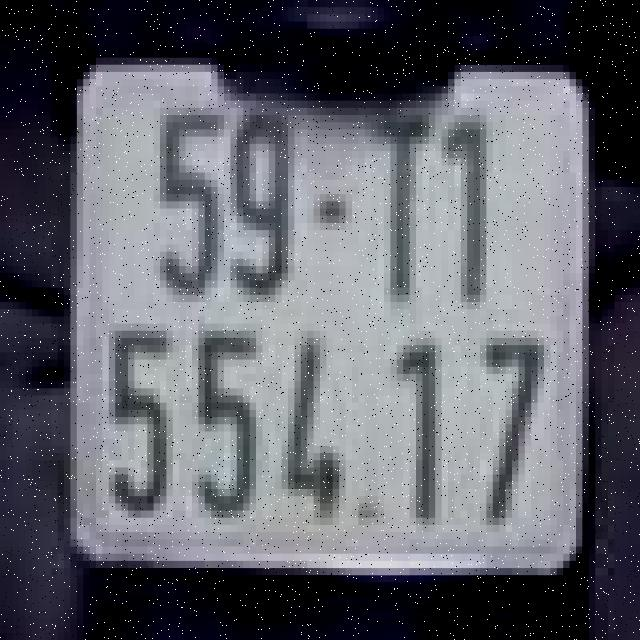1: (374, 331, 445, 539), (445, 104, 502, 313)
4: (278, 327, 342, 529)
5: (144, 90, 227, 306), (99, 313, 176, 528), (185, 324, 262, 532)
6: (467, 327, 544, 543)
9: (224, 101, 294, 316)
T: (355, 101, 426, 302)
